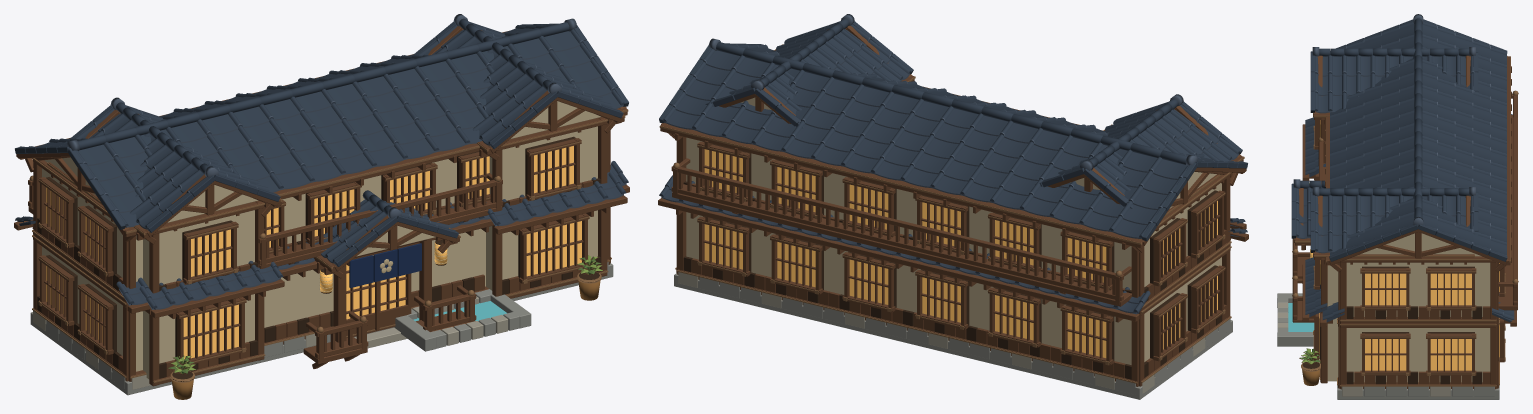
3 views of the same model, side by side, from view 1: azimuth 30°, elevation 25°; view 2: azimuth 150°, elevation 25°; view 3: azimuth 270°, elevation 25° (orthographic). The views are drawn at different scales.
Parts seen in each view (by area): view 1: compact_onsen_2_geometry; view 2: compact_onsen_2_geometry; view 3: compact_onsen_2_geometry.
Part boxes in pixels (x1,y1,x2,y2): compact_onsen_2_geometry: [14, 14, 629, 399]; compact_onsen_2_geometry: [658, 14, 1248, 399]; compact_onsen_2_geometry: [1277, 14, 1518, 399].
Size of the model in its own units: 2.07 by 0.8765 by 1.02.
